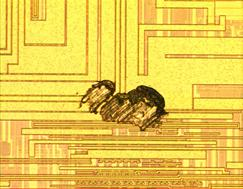SCRATCH: (79, 80, 172, 133)
